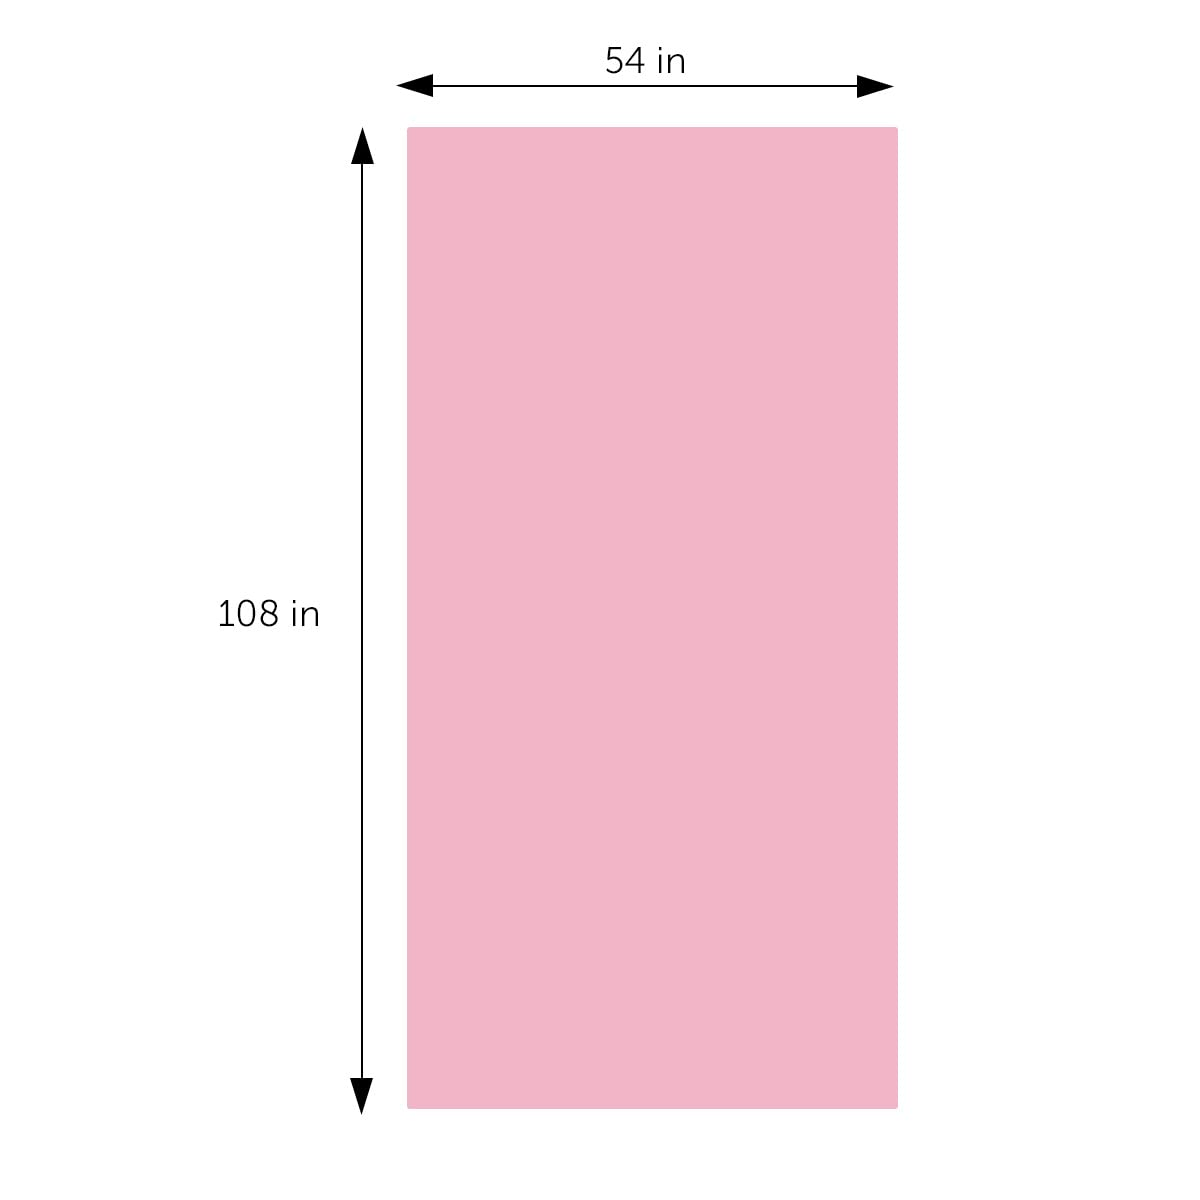108: (220, 600, 278, 626)
54: (607, 47, 644, 73)
in: (293, 600, 318, 626), (659, 47, 684, 73)
